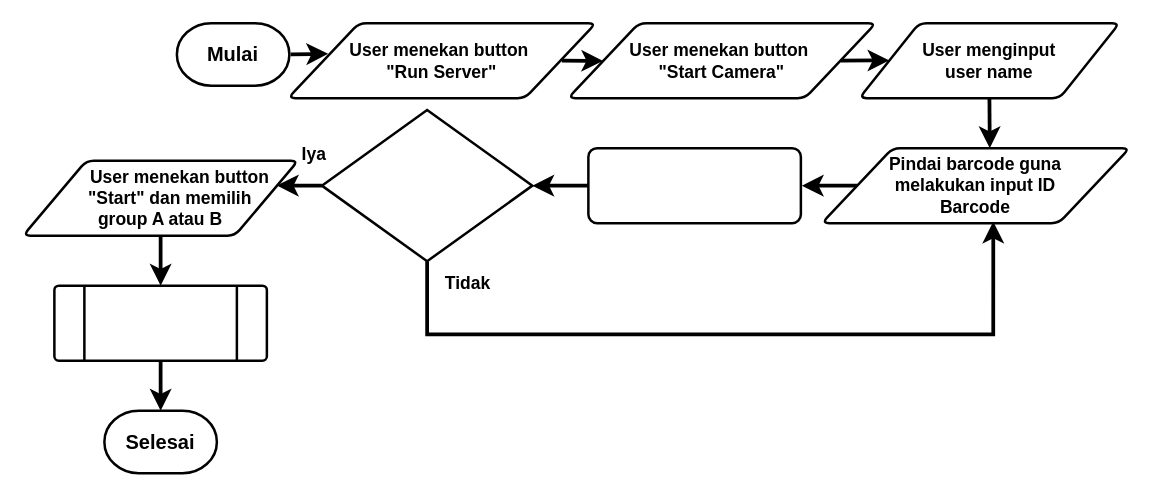
This 1153x495 diagram has some shape labels left out. Each missing label, with the centre of its shape:
Apakah ID Barcode tertampil pada kolom "ID Barcode": pixel 426 185
Sistem Beroperasi: pixel 160 322
Sistem memproses data ID Barcode: pixel 694 185
